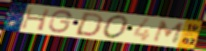4: (131, 17, 153, 43)
D: (72, 12, 105, 38)
G: (47, 9, 74, 34)
H: (20, 6, 52, 32)
M: (151, 20, 187, 44)
O: (102, 14, 131, 40)
